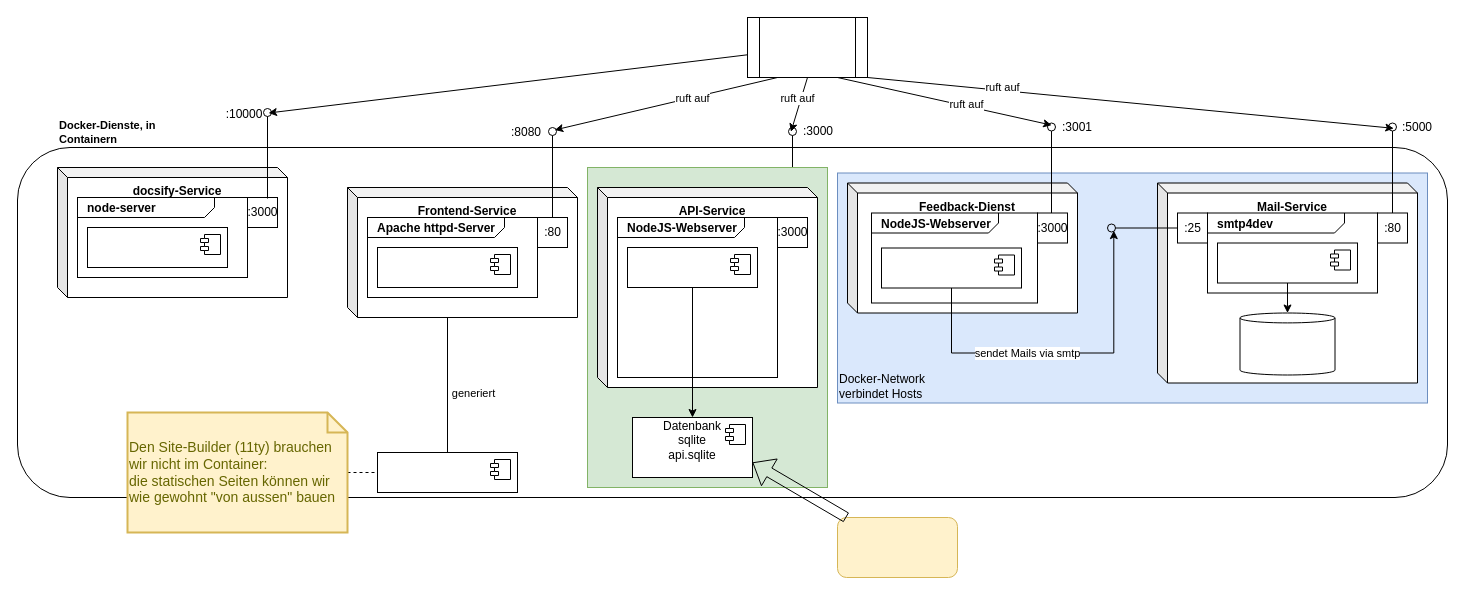
The diagram is 1465 pixels wide and 595 high, and some of its shapes have lost their labels. The shapes that lost their labels are listed below. From the top down, each one's centre as x and y in pixels, then its label:
(x=807, y=47): Client Browser
(x=157, y=247): docsify-docs
(x=447, y=267): statische Seiten
(x=692, y=267): Demo-/Text- API
(x=951, y=267): Form-Backend
(x=1287, y=262): smtp-Server und Web-App
(x=1287, y=343): Docker- Volume für Maildaten
(x=447, y=472): Site-Builder 11ty
(x=897, y=547): Datenbank-File über Volume Mount in Container
